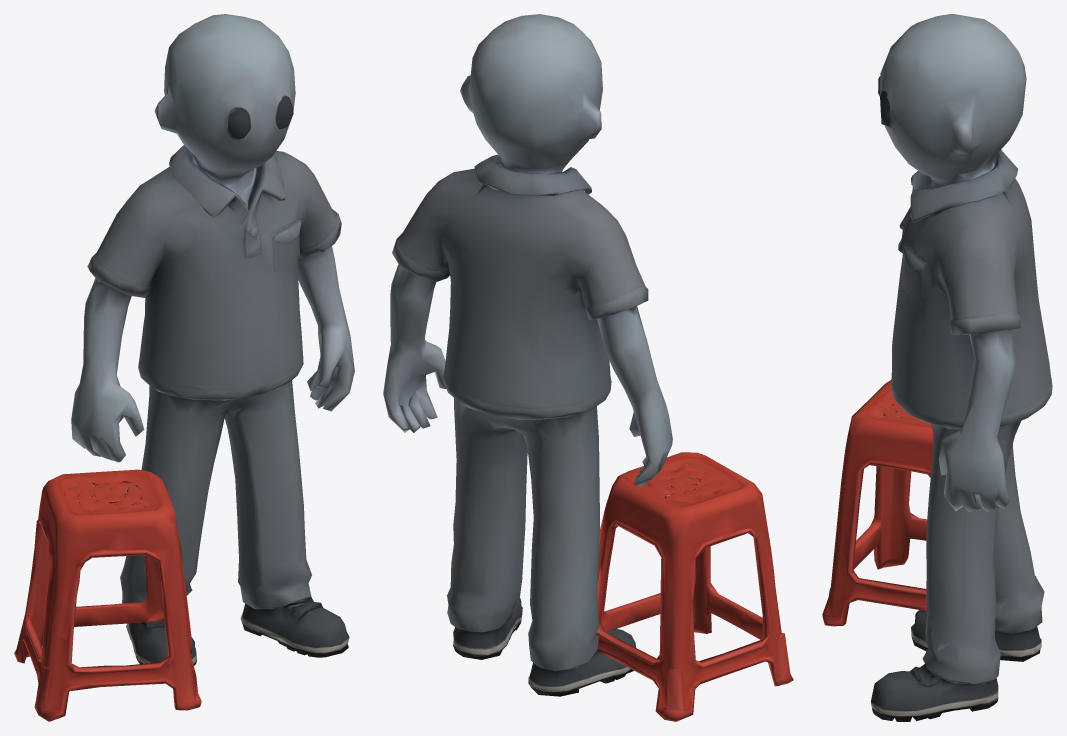
Rendered from street.glb.
3 views of the same model, side by side, from view 1: azimuth 30°, elevation 25°; view 2: azimuth 150°, elevation 25°; view 3: azimuth 270°, elevation 25° (orthographic). The views are drawn at different scales.
Parts seen in each view (by area): view 1: tripo_node_e91a09e5-f1cb-44ad-8d1e-cc0f135913a1; view 2: tripo_node_e91a09e5-f1cb-44ad-8d1e-cc0f135913a1; view 3: tripo_node_e91a09e5-f1cb-44ad-8d1e-cc0f135913a1.
Boxes of the visible parts, box(x1,y1,x2,y2) form: tripo_node_e91a09e5-f1cb-44ad-8d1e-cc0f135913a1: box(14, 14, 354, 721); tripo_node_e91a09e5-f1cb-44ad-8d1e-cc0f135913a1: box(383, 14, 793, 721); tripo_node_e91a09e5-f1cb-44ad-8d1e-cc0f135913a1: box(822, 14, 1052, 721).
Bounding box in the file's own units: 0.5893 × 1 × 0.3172.
1 material, 1 textured.
